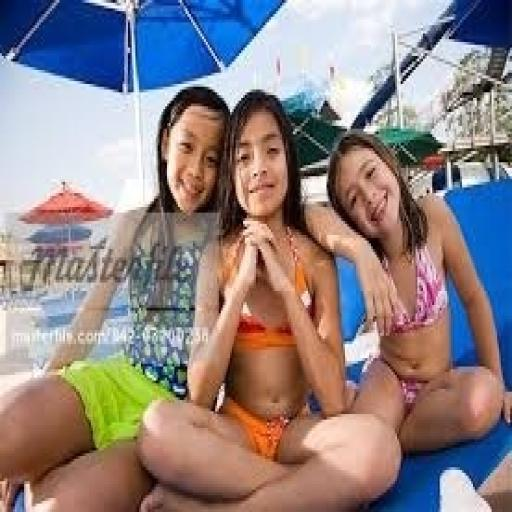sitting: (2, 78, 506, 506), (0, 81, 232, 509), (321, 126, 510, 453)
